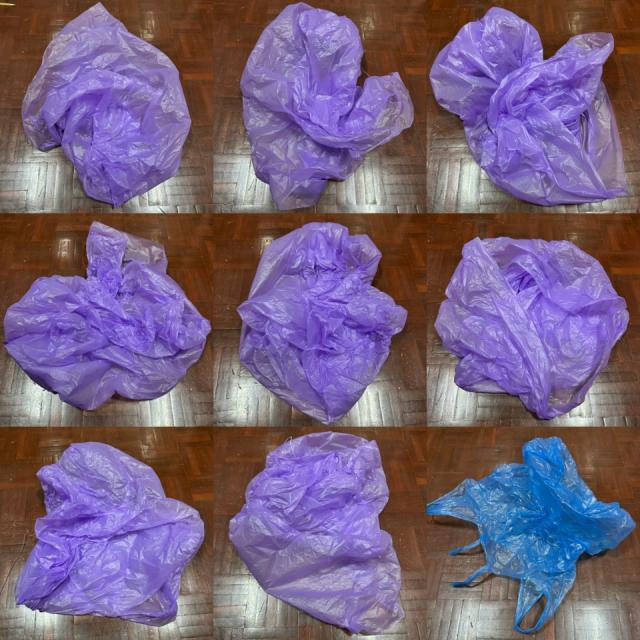Single-layer Plastic: (426, 438, 635, 632), (4, 221, 210, 410), (430, 8, 628, 204), (240, 2, 414, 210), (230, 431, 404, 634), (435, 238, 629, 418), (21, 2, 191, 207), (15, 444, 204, 626), (238, 222, 408, 423)
